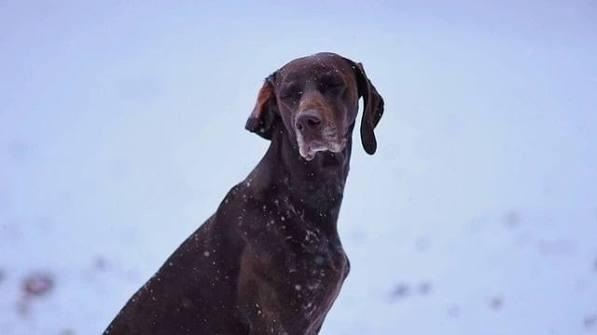adult_dog: (103, 50, 385, 335)
